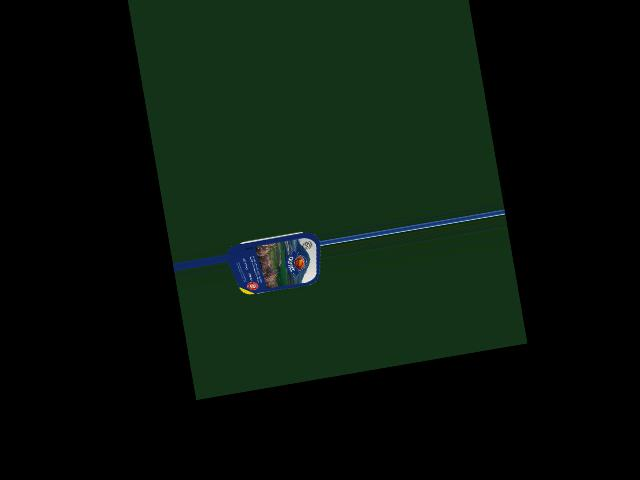cheese: (233, 223, 320, 298)
